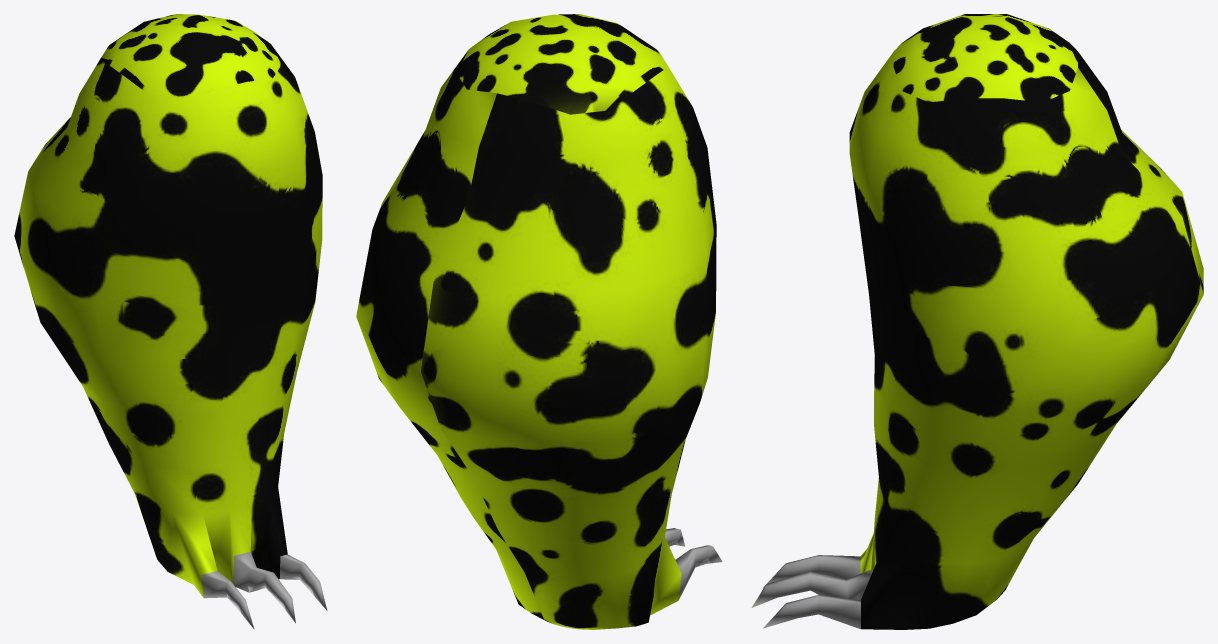
The model's file is Pies de AnimalD.fbx.
3 views of the same model, side by side, from view 1: azimuth 30°, elevation 25°; view 2: azimuth 150°, elevation 25°; view 3: azimuth 270°, elevation 25° (orthographic). The views are drawn at different scales.
Visible parts, largest first — view 1: Pies de AnimalD; view 2: Pies de AnimalD; view 3: Pies de AnimalD.
Boxes of the visible parts, left/top/right/bottom form: Pies de AnimalD: left=14, top=14, right=327, bottom=628; Pies de AnimalD: left=356, top=14, right=722, bottom=629; Pies de AnimalD: left=751, top=14, right=1203, bottom=629.
Bounding box in the file's own units: 15.42 × 29.26 × 20.53.
